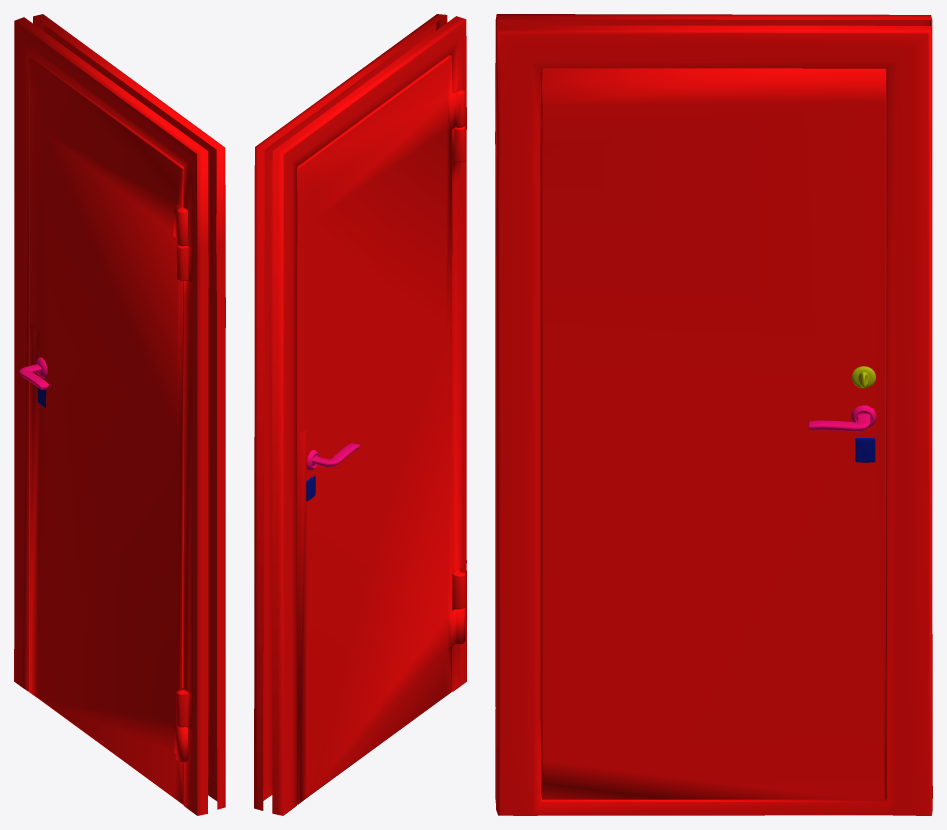
The model's file is main_door.fbx.
3 renders of one model, left to right at view 1: azimuth 30°, elevation 25°; view 2: azimuth 150°, elevation 25°; view 3: azimuth 270°, elevation 25°, orthographic. The views are drawn at different scales.
Visible parts, largest first — view 1: door, rama; view 2: door, rama; view 3: door, rama.
Part boxes in pixels (<box>): door: <box>19,56,188,804</box>; rama: <box>14,14,225,815</box>; door: <box>297,55,465,804</box>; rama: <box>254,14,466,815</box>; door: <box>540,68,886,799</box>; rama: <box>495,14,932,815</box>.
Size of the model in its own units: 15.46 by 128 by 64.81.
